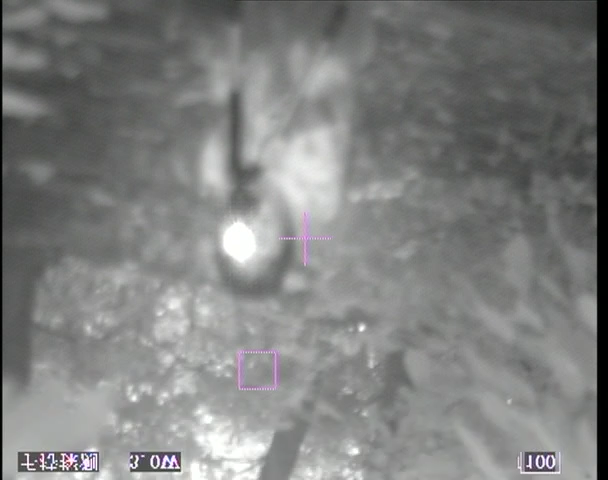my: (221, 221, 260, 262)
